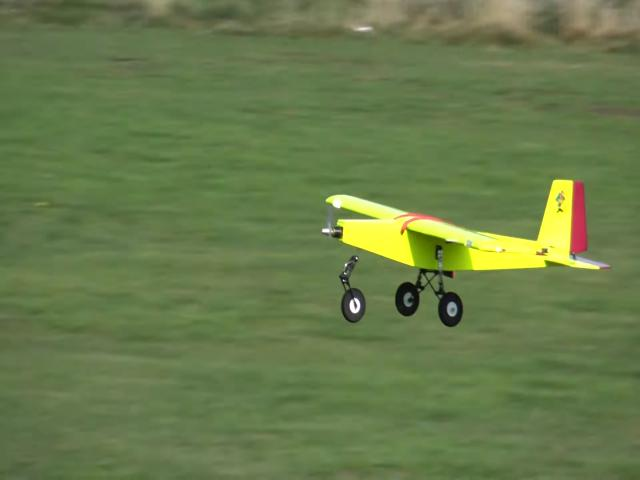plane: (322, 179, 613, 328)
